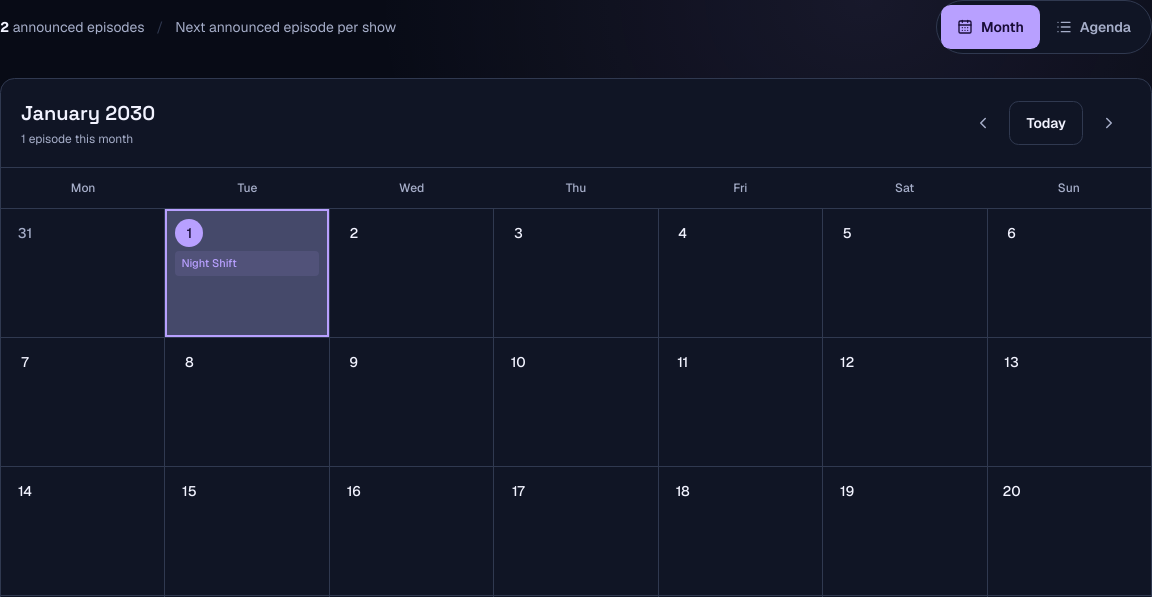
selects days, navigates months, returns to today and exposes all dates in agenda
Click the button named "Next month" at (1109, 123), box [1087,101,1131,145]
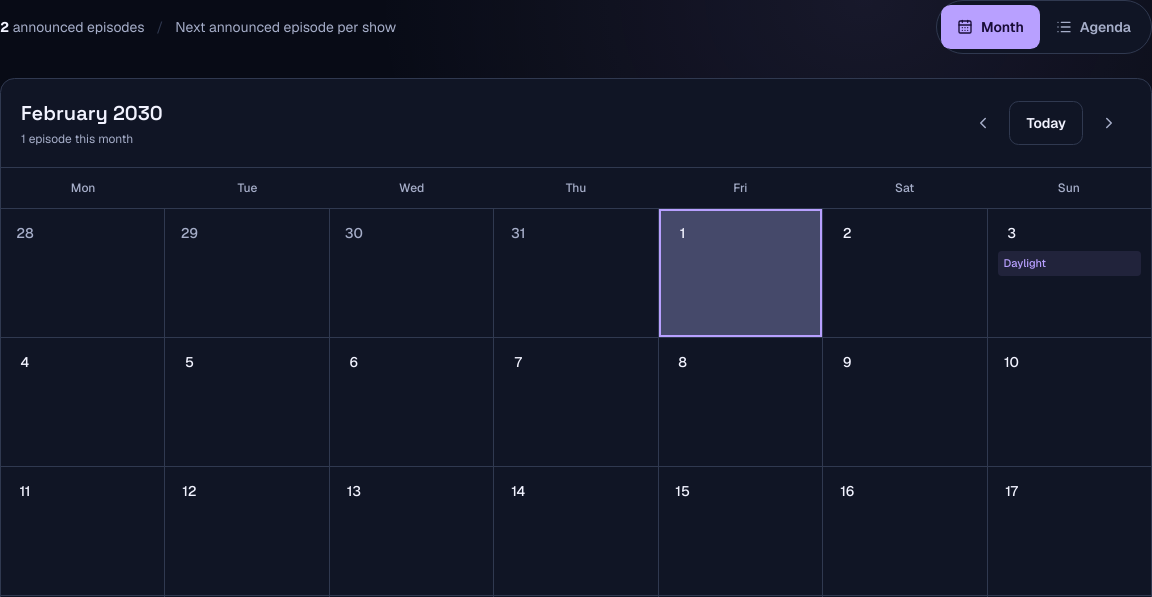
Check: the heading "February 2030" is shown, box [21,99,163,127]
Click the button with aria-label "Sunday, February 3, 2030, 1 episode" at (1069, 273), box [988,209,1151,337]
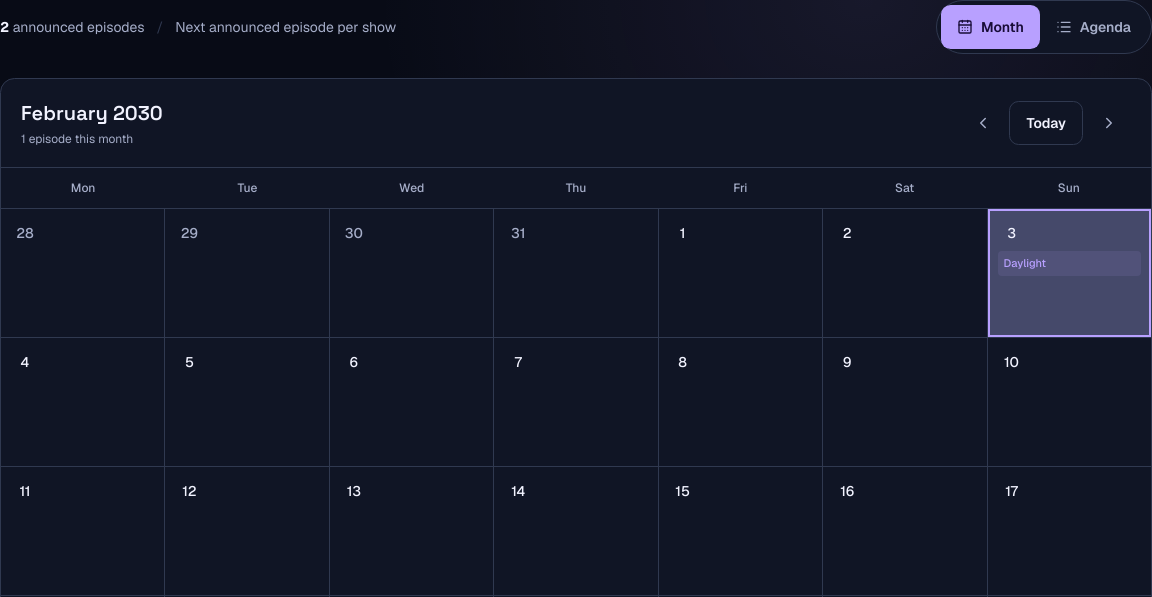
Click the button "Today" at (1046, 123), box [1009,101,1083,145]
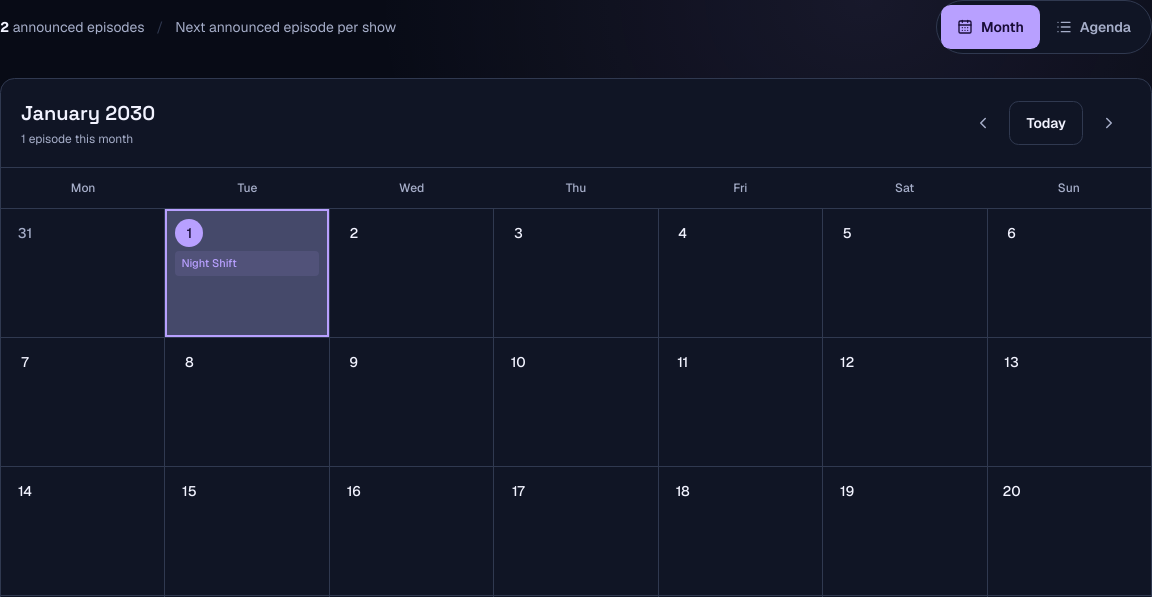
Click the button "Agenda" at (1093, 27), box [1040,5,1147,49]
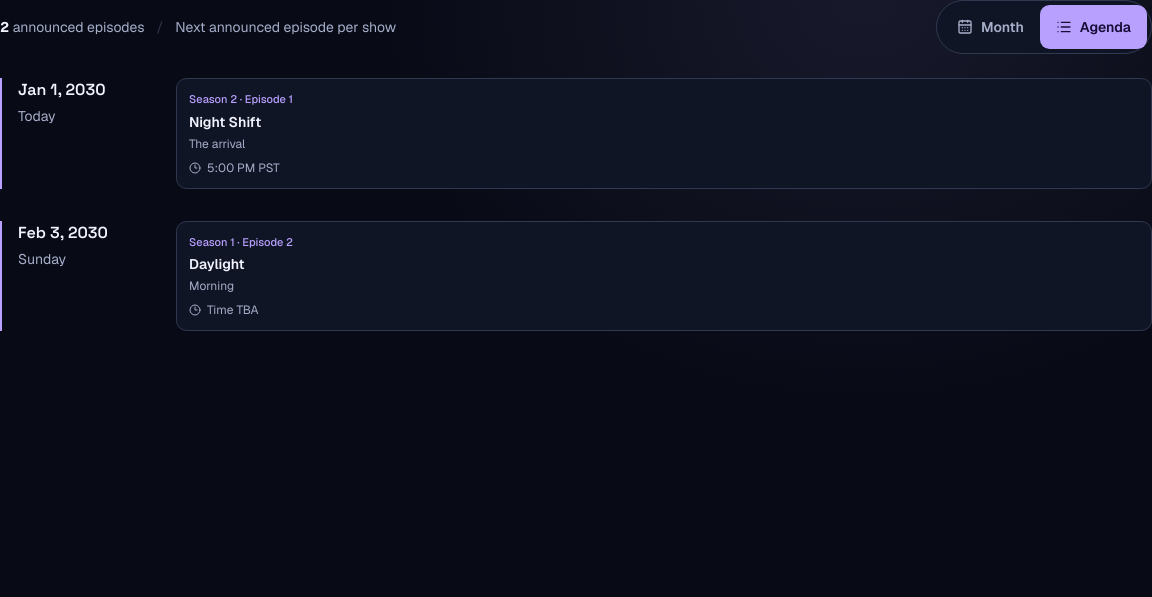
Check: the number of links is 2, box [176,78,1151,188]; [176,220,1151,331]
